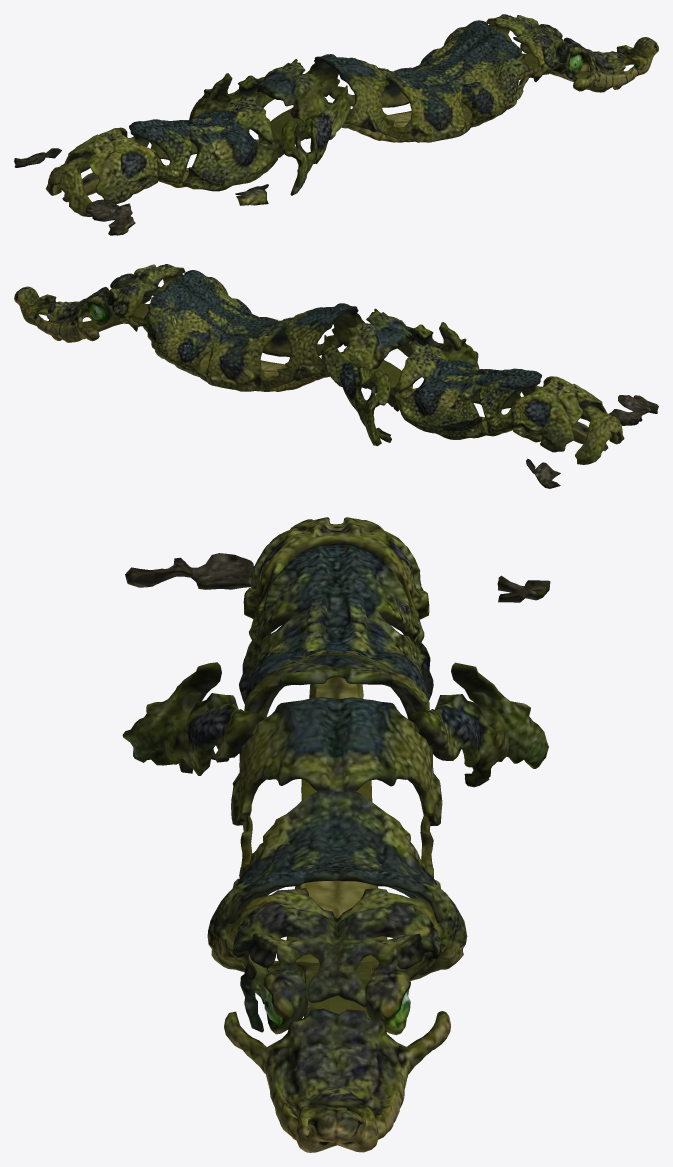
Rendered from grassland-overlord.glb.
The picture shows the model from 3 angles, top to bottom: view 1: azimuth 30°, elevation 25°; view 2: azimuth 150°, elevation 25°; view 3: azimuth 270°, elevation 25°; orthographic projection. The views are drawn at different scales.
Parts seen in each view (by area): view 1: tripo_node_a7aeafeb-54e3-4536-8fdc-67ca7cd0d43f; view 2: tripo_node_a7aeafeb-54e3-4536-8fdc-67ca7cd0d43f; view 3: tripo_node_a7aeafeb-54e3-4536-8fdc-67ca7cd0d43f.
Boxes of the visible parts, x1,y1,x2,y2 form: tripo_node_a7aeafeb-54e3-4536-8fdc-67ca7cd0d43f: [14, 14, 658, 235]; tripo_node_a7aeafeb-54e3-4536-8fdc-67ca7cd0d43f: [14, 264, 658, 488]; tripo_node_a7aeafeb-54e3-4536-8fdc-67ca7cd0d43f: [122, 517, 550, 1152].
Bounding box in the file's own units: 1 × 0.1444 × 0.3099.
Materials: 1 (1 with a texture image).
